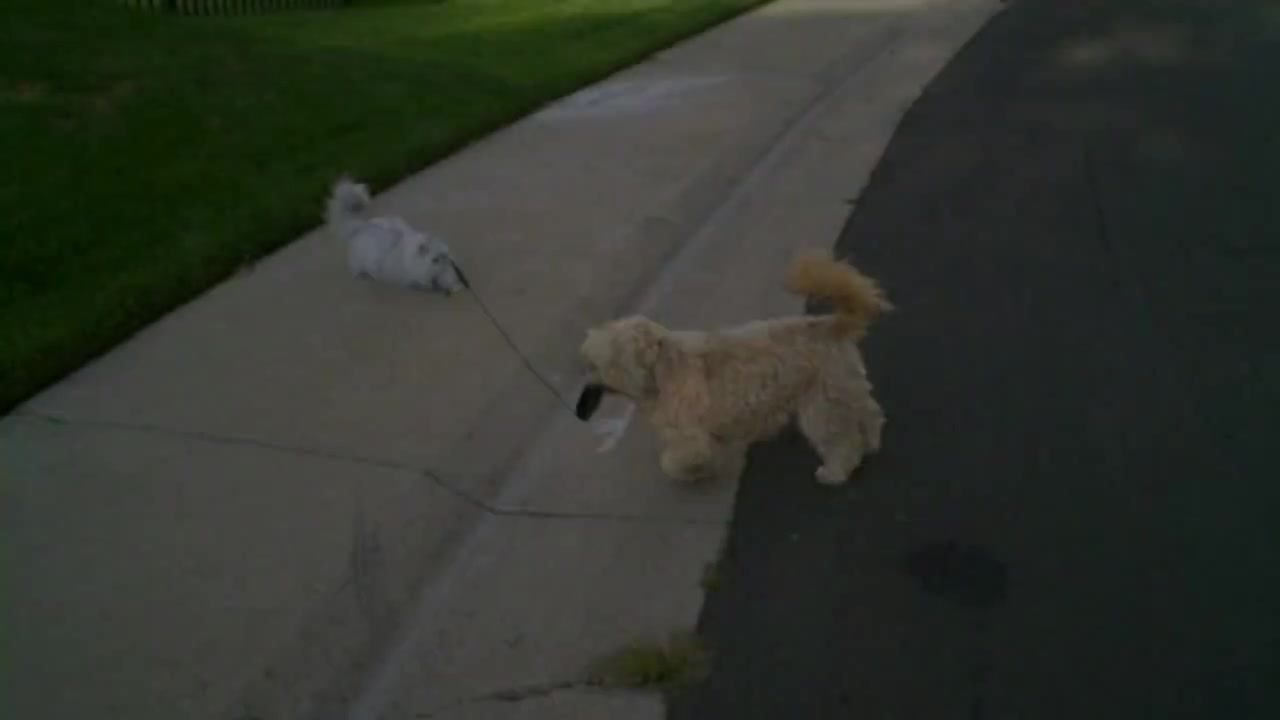dog: (571, 248, 904, 488)
